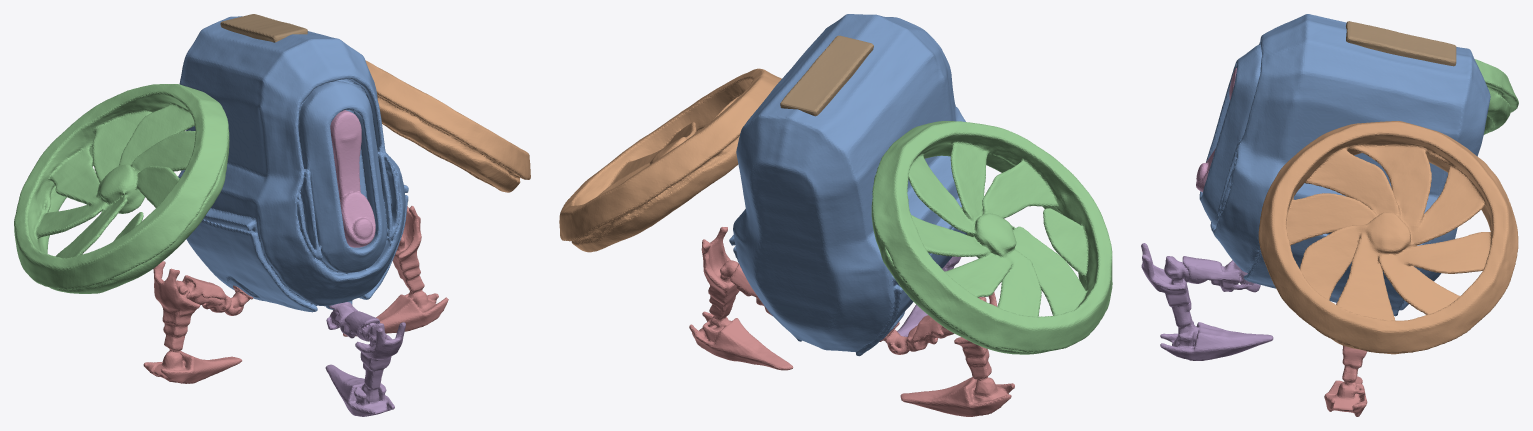
Rendered from drone2.glb.
The picture shows the model from 3 angles, left to right: view 1: azimuth 30°, elevation 25°; view 2: azimuth 150°, elevation 25°; view 3: azimuth 270°, elevation 25°; orthographic projection. The views are drawn at different scales.
Parts seen in each view (by area): view 1: part_0_body, part_2_right_blade, part_3_landing_legs, part_1_left_blade, part_4_claws, part_6_round button, part_5_top_battery_box; view 2: part_0_body, part_2_right_blade, part_1_left_blade, part_3_landing_legs, part_5_top_battery_box, part_4_claws; view 3: part_1_left_blade, part_0_body, part_4_claws, part_5_top_battery_box, part_3_landing_legs, part_2_right_blade, part_6_round button.
Part boxes in pixels (x1,y1,x2,y2): part_0_body: [178, 16, 408, 312]; part_2_right_blade: [14, 84, 229, 293]; part_3_landing_legs: [143, 206, 448, 383]; part_1_left_blade: [365, 60, 530, 192]; part_4_claws: [325, 302, 405, 416]; part_6_round button: [330, 110, 375, 247]; part_5_top_battery_box: [220, 14, 307, 42]; part_0_body: [729, 14, 966, 356]; part_2_right_blade: [871, 121, 1112, 354]; part_1_left_blade: [559, 68, 781, 252]; part_3_landing_legs: [689, 227, 1014, 416]; part_5_top_battery_box: [780, 35, 873, 116]; part_4_claws: [897, 256, 961, 336]; part_1_left_blade: [1258, 121, 1518, 354]; part_0_body: [1199, 14, 1490, 316]; part_4_claws: [1141, 243, 1273, 360]; part_5_top_battery_box: [1346, 21, 1456, 66]; part_3_landing_legs: [1324, 303, 1367, 416]; part_2_right_blade: [1474, 59, 1518, 134]; part_6_round button: [1196, 68, 1236, 192].
Size of the model in its own units: 1.92 by 1.27 by 1.3.
